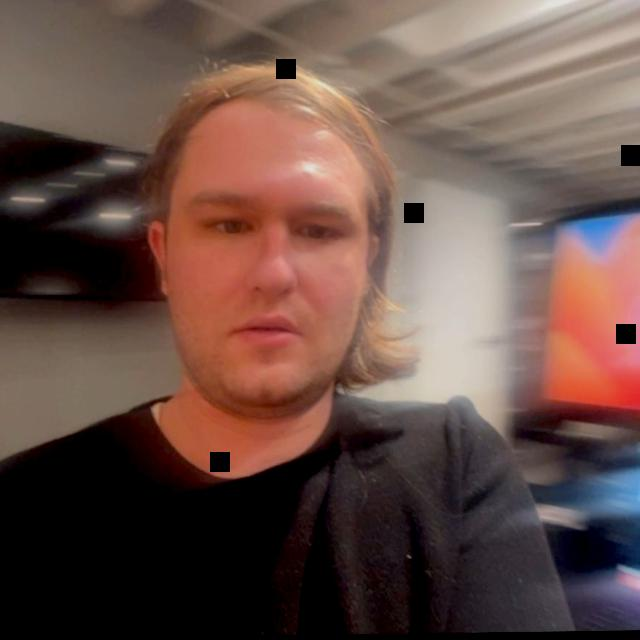NO-Mask: (138, 45, 414, 488)
